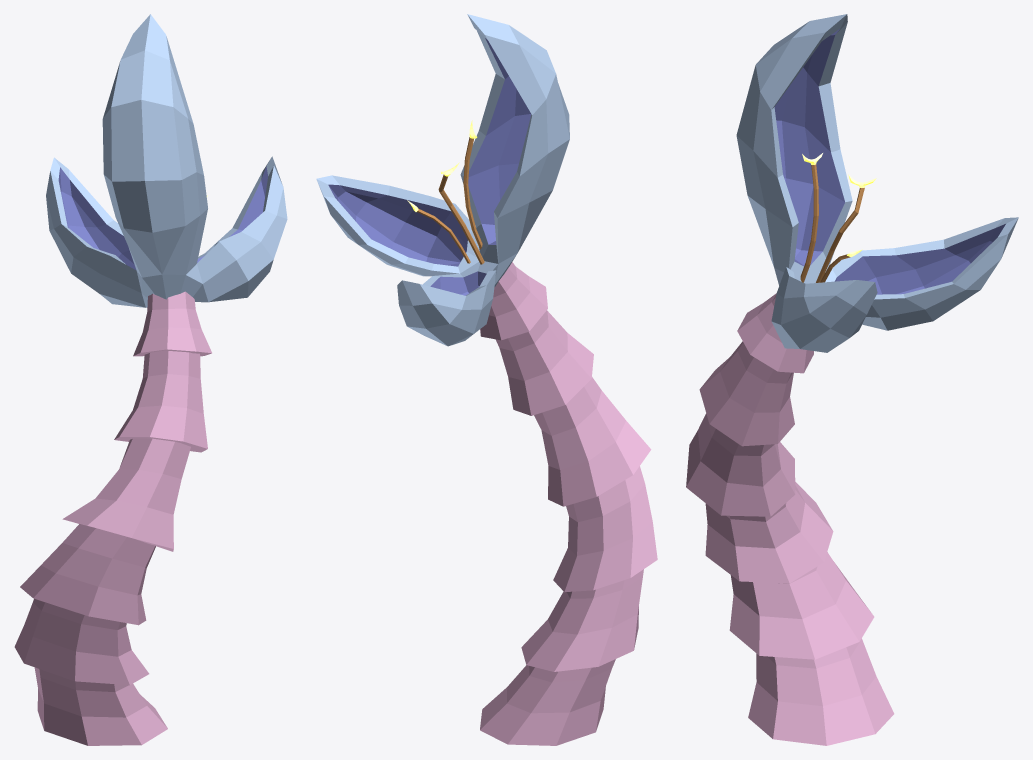
Rendered from Tree_10_Var_01.fbx.
3 renders of one model, left to right at view 1: azimuth 30°, elevation 25°; view 2: azimuth 150°, elevation 25°; view 3: azimuth 270°, elevation 25°, orthographic. The views are drawn at different scales.
Parts seen in each view (by area): view 1: Tree_10_Var_01; view 2: Tree_10_Var_01; view 3: Tree_10_Var_01.
Boxes of the visible parts, x1,y1,x2,y2 form: Tree_10_Var_01: (14, 14, 287, 745); Tree_10_Var_01: (316, 14, 657, 745); Tree_10_Var_01: (686, 14, 1018, 745).
Size of the model in its own units: 1.86 by 4.54 by 1.98.
